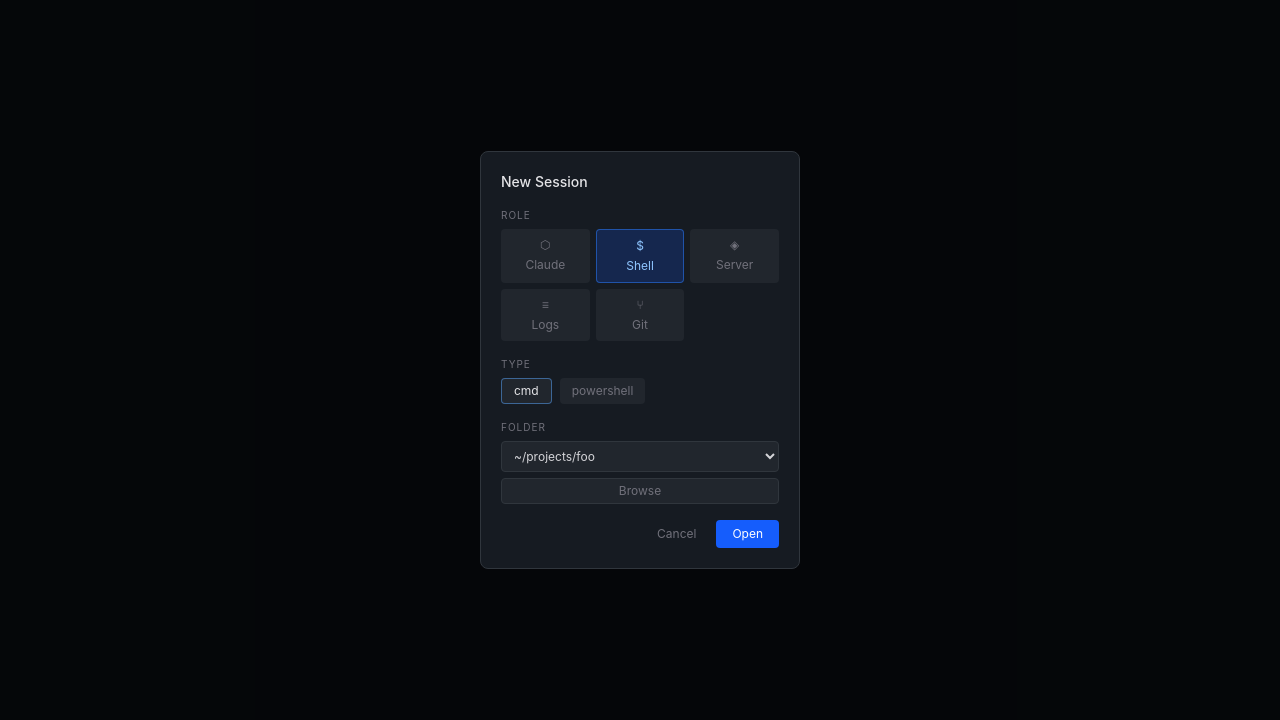
NewSessionDialog › sets cwd from native picker result
The width and height of the screenshot is (1280, 720).
Step 1. Click the button "Browse" → (640, 491), box [501,478,779,504]
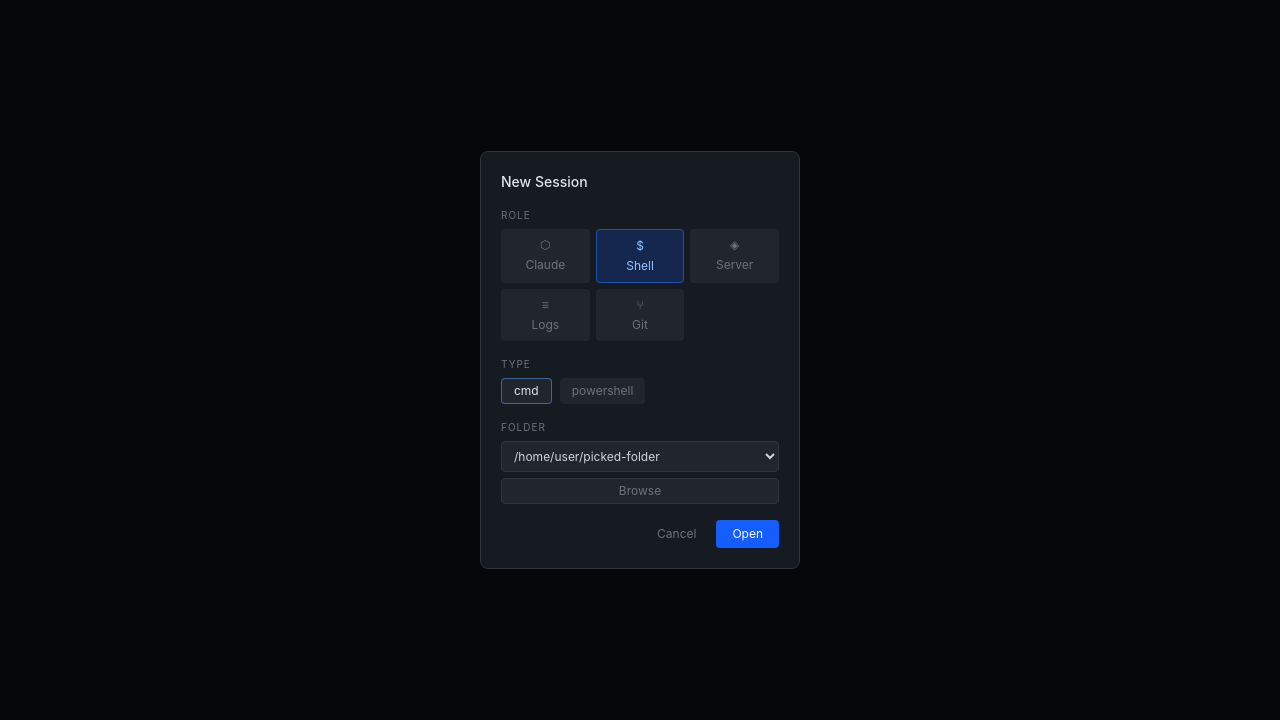
Result: the dropdown shows "/home/user/picked-folder" at [501,441,779,472]
